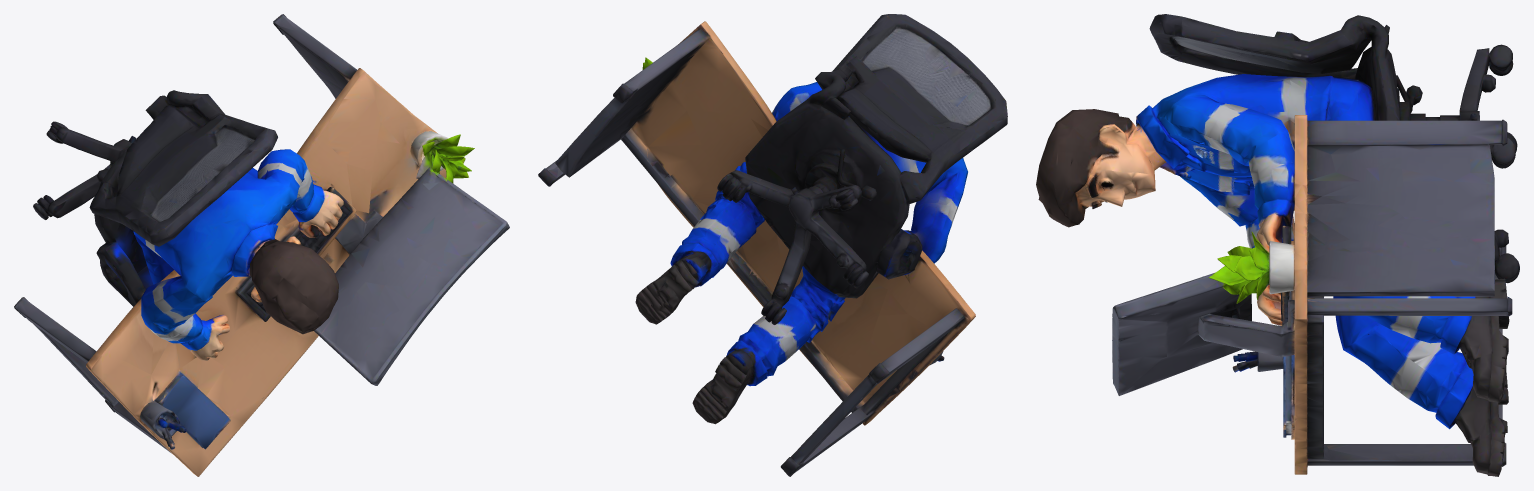
File: monter_za_compom.glb
3 renders of one model, left to right at view 1: azimuth 30°, elevation 25°; view 2: azimuth 150°, elevation 25°; view 3: azimuth 270°, elevation 25°, orthographic. The views are drawn at different scales.
Parts seen in each view (by area): view 1: monter_za_compom; view 2: monter_za_compom; view 3: monter_za_compom.
Boxes of the visible parts, x1,y1,x2,y2 form: monter_za_compom: (14,14,509,476); monter_za_compom: (538,14,1007,476); monter_za_compom: (1036,14,1519,476).
Bounding box in the file's own units: 1.45 × 1.42 × 1.32.
Materials: 1 (1 with a texture image).
